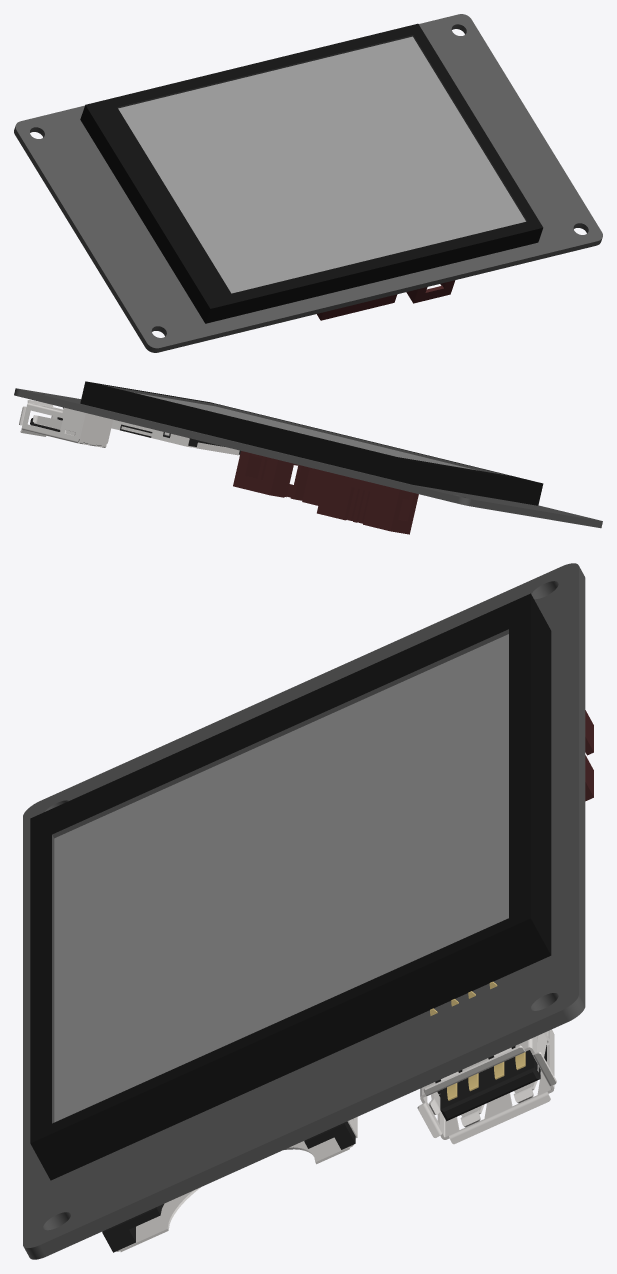
File: mks tft 32.fbx
The picture shows the model from 3 angles, top to bottom: view 1: azimuth 30°, elevation 25°; view 2: azimuth 150°, elevation 25°; view 3: azimuth 270°, elevation 25°; orthographic projection. The views are drawn at different scales.
Visible parts, largest first — view 1: tft32; view 2: tft32; view 3: tft32.
Boxes of the visible parts, <box> form: tft32: <box>14,14,602,352</box>; tft32: <box>14,381,602,534</box>; tft32: <box>23,563,593,1259</box>.
Bounding box in the file's own units: 11.05 × 3.98 × 5.98.
